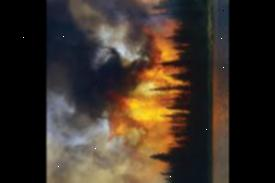fire: (106, 20, 193, 176)
